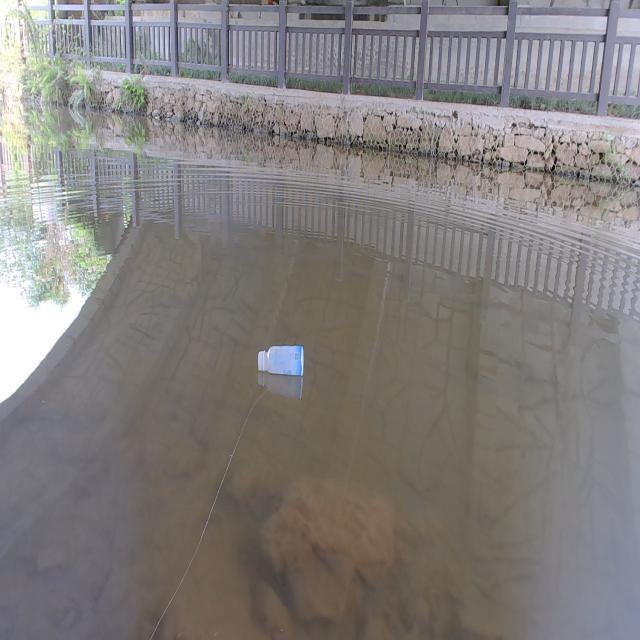Bottle: (256, 338, 308, 382)
